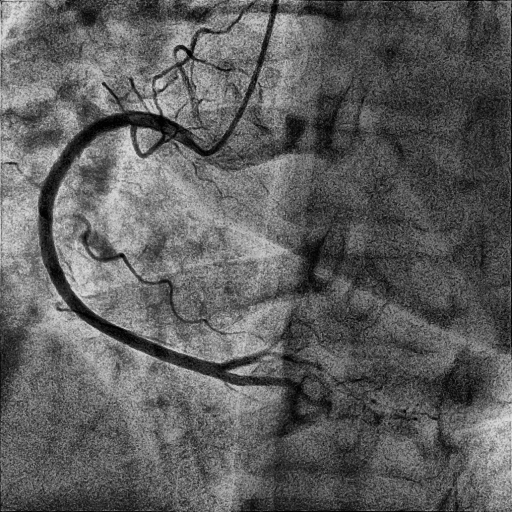pborca: (223, 351, 324, 371)
pda: (220, 372, 346, 421)
rca: (37, 110, 221, 378)
